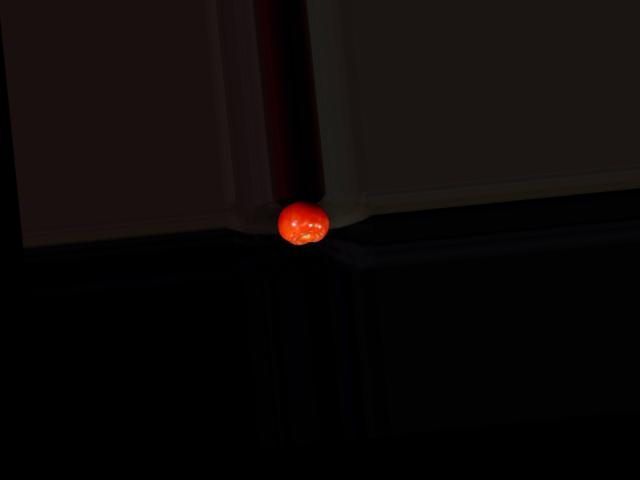tomato: (274, 198, 331, 247)
